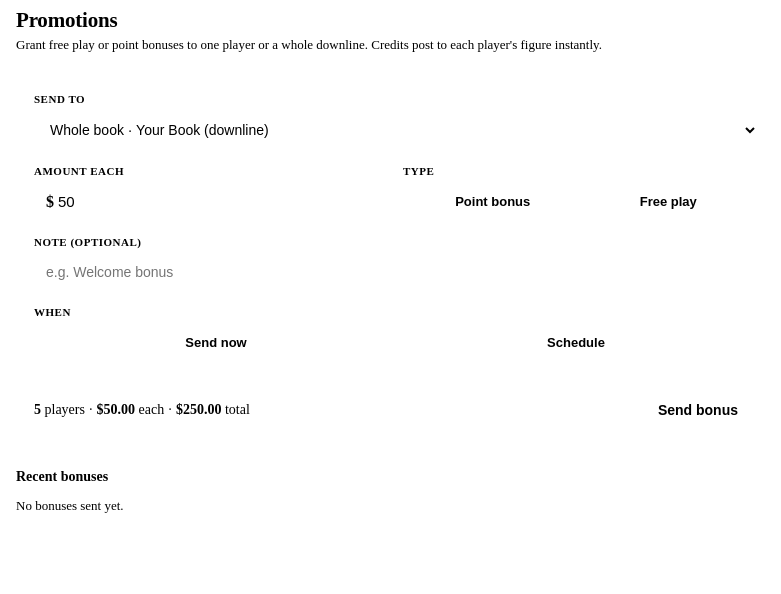
Test: PromotionsPage (smoke) › renders the sender, previews a plan, and logs a sent bonus
The image size is (781, 594).
Expected: the heading with class "mgr-promo-title" reads "Promotions", [16, 8, 118, 32]
Step 1. Click the button "Send bonus" → (698, 410), box [638, 391, 758, 429]
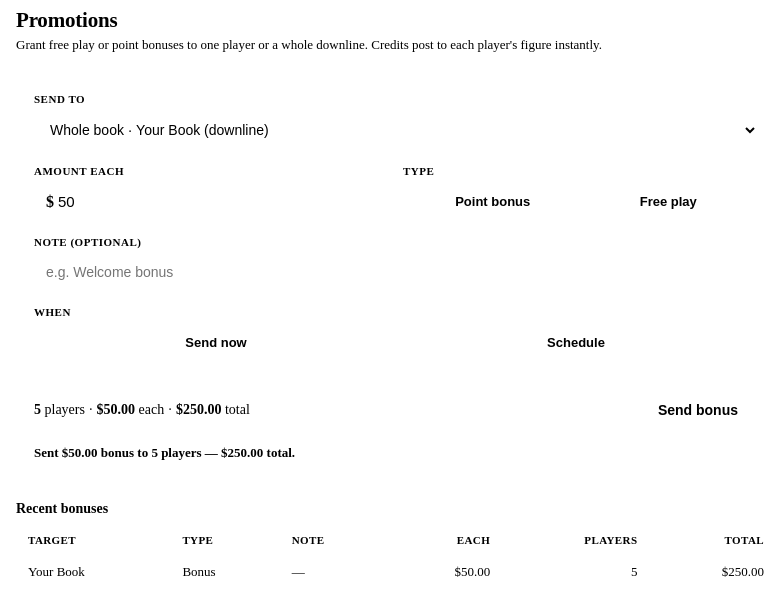
Expected: the text with class "is-ok" reads "Sent $50.00 bonus to 5 players — $250.00 total.", [34, 445, 295, 460]
